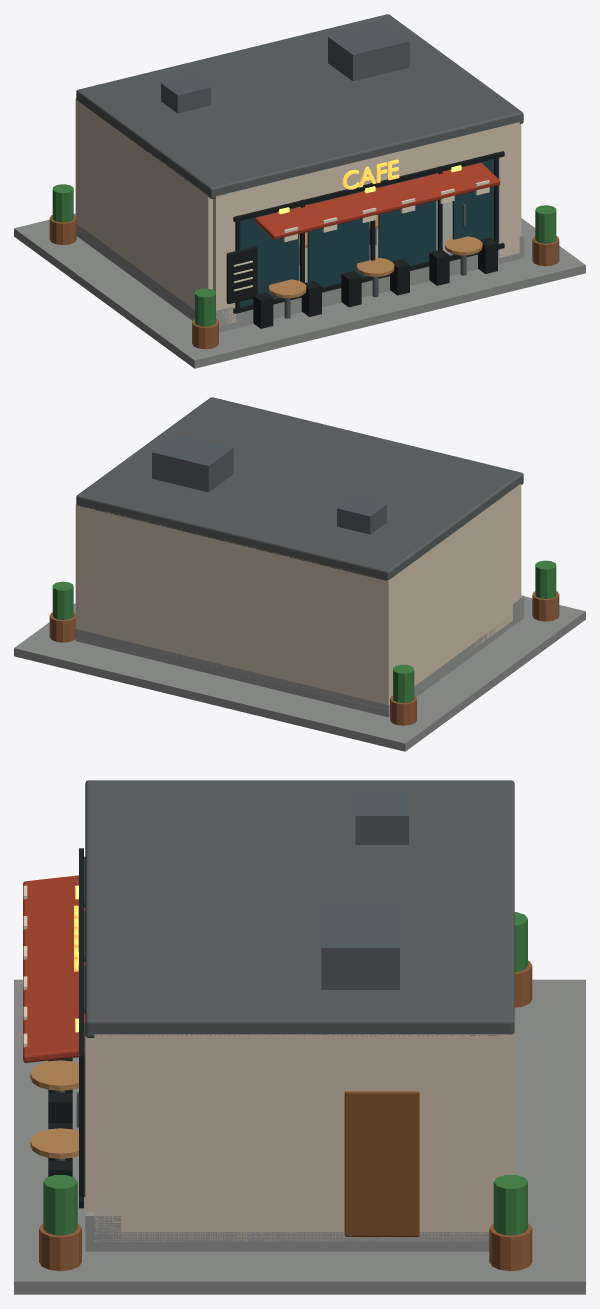
File: CafeStage 10.glb
3 views of the same model, one above another, from view 1: azimuth 30°, elevation 25°; view 2: azimuth 150°, elevation 25°; view 3: azimuth 270°, elevation 25° (orthographic). The views are drawn at different scales.
Visible parts, largest first — view 1: FlatRoof.006, CafeWalls.006, TileBase_10x8.009, StorefrontGlass.005, FrontAwning.003, RooftopEquipment.001, CafeFoundation.008, StorefrontFrames.005, MenuBoard.003, PatioChairs_0.002, PatioChairs_1.002, PatioChairs_2.001 (+11 smaller); view 2: CafeWalls.006, FlatRoof.006, TileBase_10x8.009, CafeFoundation.008, RooftopEquipment.001, Plant_3.002, Plant_0.002, Plant_2.002, Planter_0.002, Planter_3.002, Planter_2.002; view 3: FlatRoof.006, CafeWalls.006, TileBase_10x8.009, SideServiceDoor, RooftopEquipment.001, FrontAwning.003, CafeFoundation.008, Plant_1.002, Plant_3.002, StorefrontFrames.005, Planter_3.002, Planter_1.002 (+5 smaller).
Boxes of the visible parts, bbox=[...] form: FlatRoof.006: bbox=[76, 14, 523, 198]; CafeWalls.006: bbox=[75, 98, 521, 325]; TileBase_10x8.009: bbox=[14, 213, 585, 368]; StorefrontGlass.005: bbox=[240, 159, 493, 307]; FrontAwning.003: bbox=[255, 163, 500, 239]; RooftopEquipment.001: bbox=[161, 23, 409, 113]; CafeFoundation.008: bbox=[76, 200, 524, 332]; StorefrontFrames.005: bbox=[233, 151, 504, 313]; MenuBoard.003: bbox=[226, 246, 257, 303]; PatioChairs_0.002: bbox=[253, 280, 321, 328]; PatioChairs_1.002: bbox=[341, 259, 409, 307]; PatioChairs_2.001: bbox=[429, 237, 497, 285]; CafeWalls.006: bbox=[75, 483, 521, 710]; FlatRoof.006: bbox=[76, 397, 523, 580]; TileBase_10x8.009: bbox=[14, 596, 585, 751]; CafeFoundation.008: bbox=[75, 595, 524, 717]; RooftopEquipment.001: bbox=[152, 434, 386, 534]; Plant_3.002: bbox=[52, 581, 73, 620]; Plant_0.002: bbox=[535, 560, 556, 598]; Plant_2.002: bbox=[393, 664, 414, 703]; Planter_0.002: bbox=[532, 591, 559, 621]; Planter_3.002: bbox=[49, 612, 75, 642]; Planter_2.002: bbox=[390, 695, 416, 725]; FlatRoof.006: bbox=[85, 780, 514, 1037]; CafeWalls.006: bbox=[85, 1033, 514, 1241]; TileBase_10x8.009: bbox=[14, 979, 585, 1294]; SideServiceDoor: bbox=[344, 1091, 419, 1236]; RooftopEquipment.001: bbox=[321, 790, 408, 989]; FrontAwning.003: bbox=[23, 875, 85, 1062]; CafeFoundation.008: bbox=[85, 1212, 489, 1251]; Plant_1.002: bbox=[43, 1175, 77, 1235]; Plant_3.002: bbox=[493, 1175, 527, 1235]; StorefrontFrames.005: bbox=[79, 848, 83, 1208]; Planter_3.002: bbox=[489, 1223, 532, 1270]; Planter_1.002: bbox=[39, 1223, 81, 1271].
Size of the model in its own units: 10 by 4.41 by 8.
